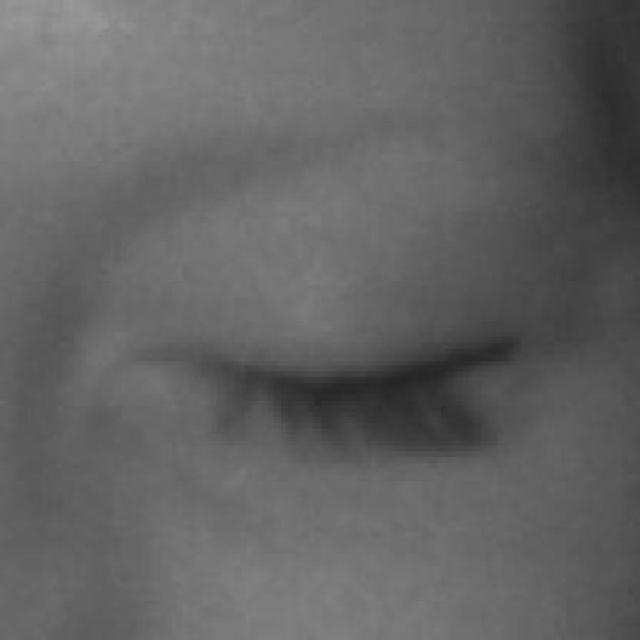drowsy: (125, 200, 527, 548)
